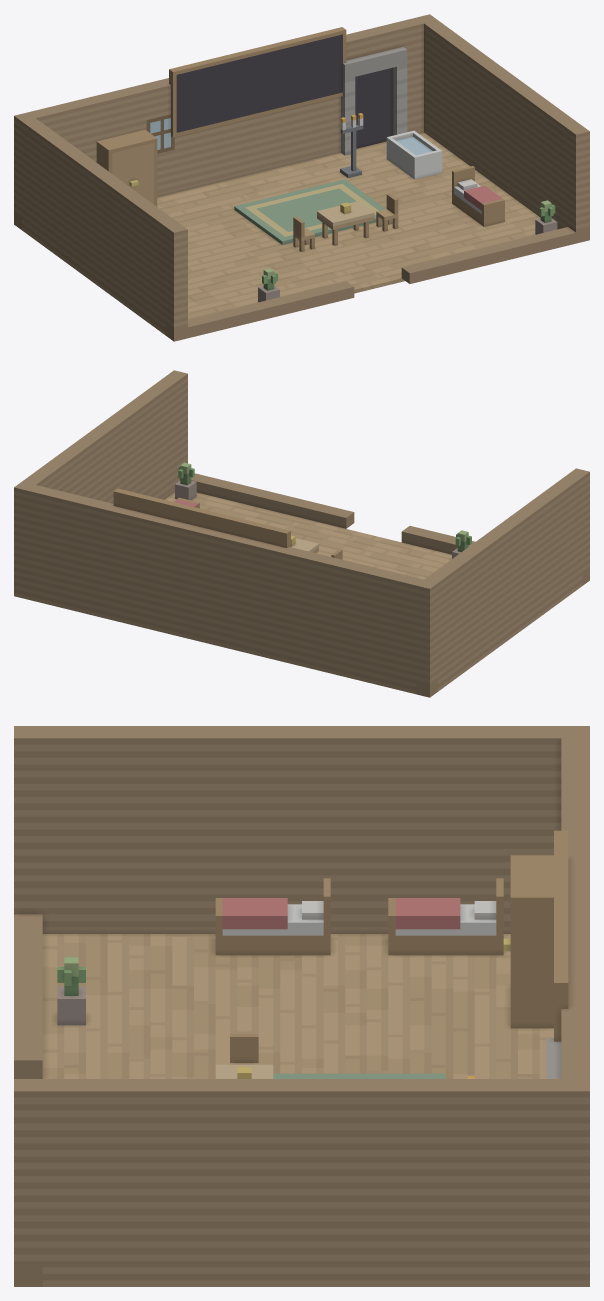
The model's file is piece_auberge.glb.
3 renders of one model, top to bottom at view 1: azimuth 30°, elevation 25°; view 2: azimuth 150°, elevation 25°; view 3: azimuth 270°, elevation 25°, orthographic. The views are drawn at different scales.
Parts seen in each view (by area): view 1: geometry_0; view 2: geometry_0; view 3: geometry_0.
Boxes of the visible parts, x1,y1,x2,y2 form: geometry_0: (14, 14, 589, 341); geometry_0: (14, 370, 589, 697); geometry_0: (14, 726, 589, 1286).
Size of the model in its own units: 15 by 4.38 by 10.
